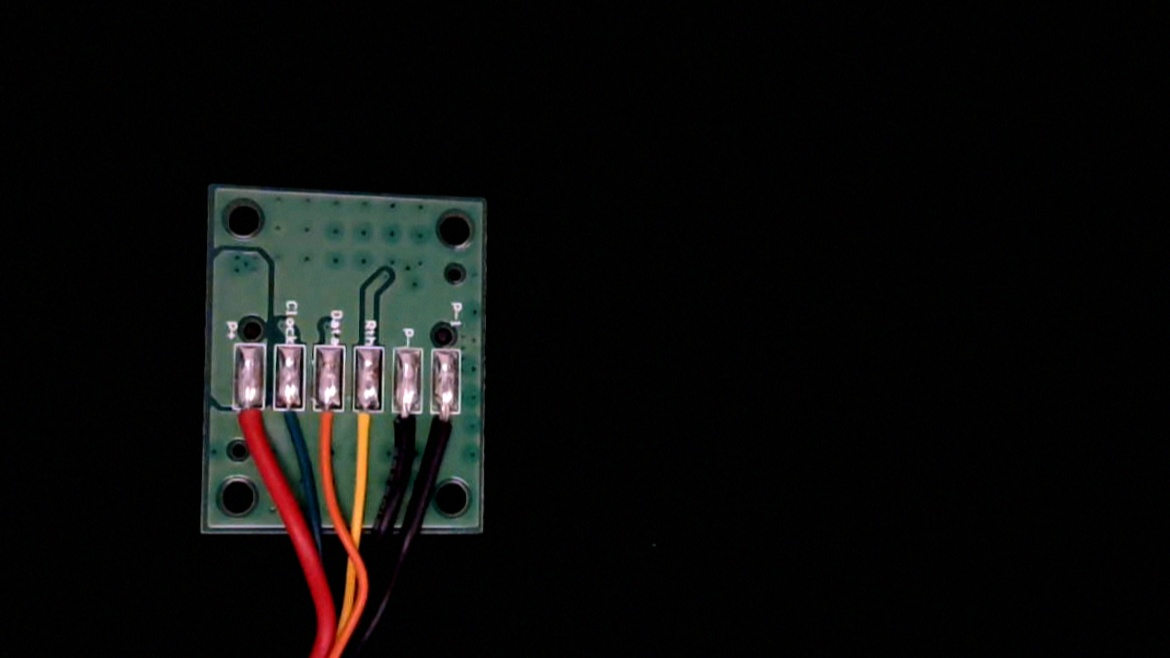Black: (390, 395, 421, 463)
Black1: (431, 393, 464, 462)
Green: (273, 388, 305, 452)
Orange: (311, 390, 344, 465)
Red: (232, 388, 265, 448)
Yellow: (350, 392, 385, 468)
